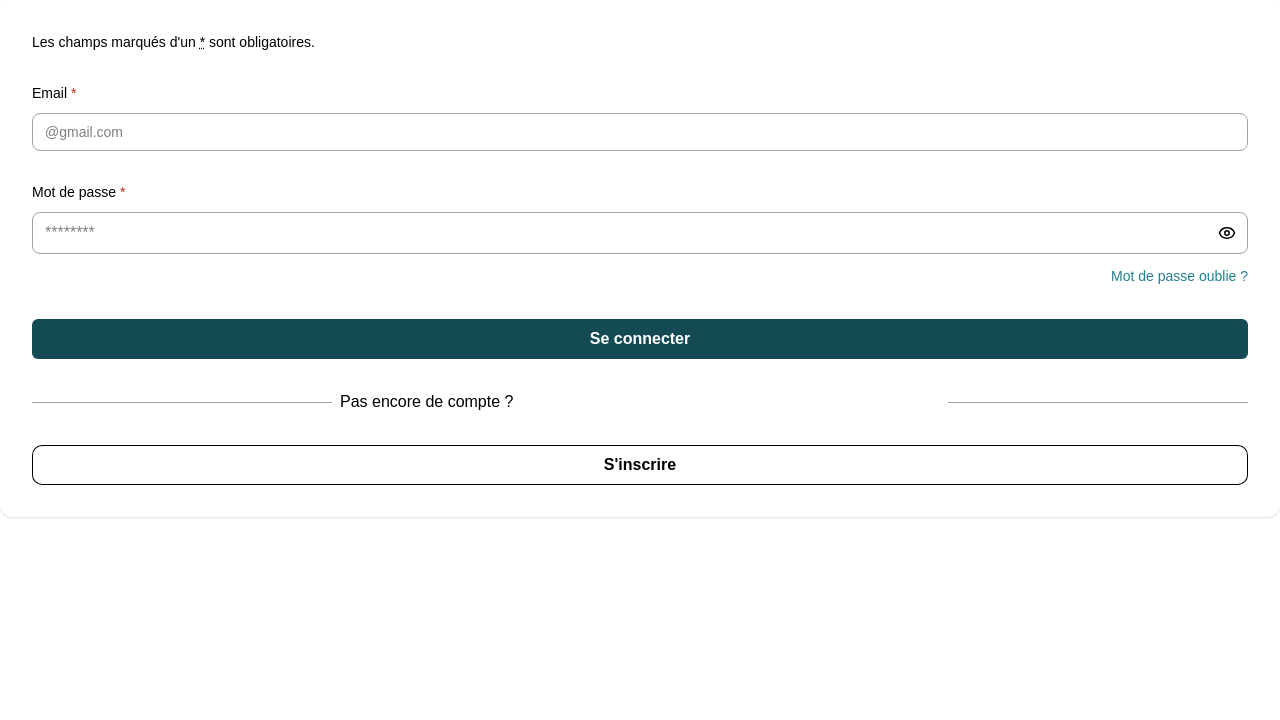
Test case: LoginForm › affiche les erreurs serveur globales (500)
Type "test@example.com" into the field with placeholder "@gmail.com" at (640,132), box [32,113,1248,151]
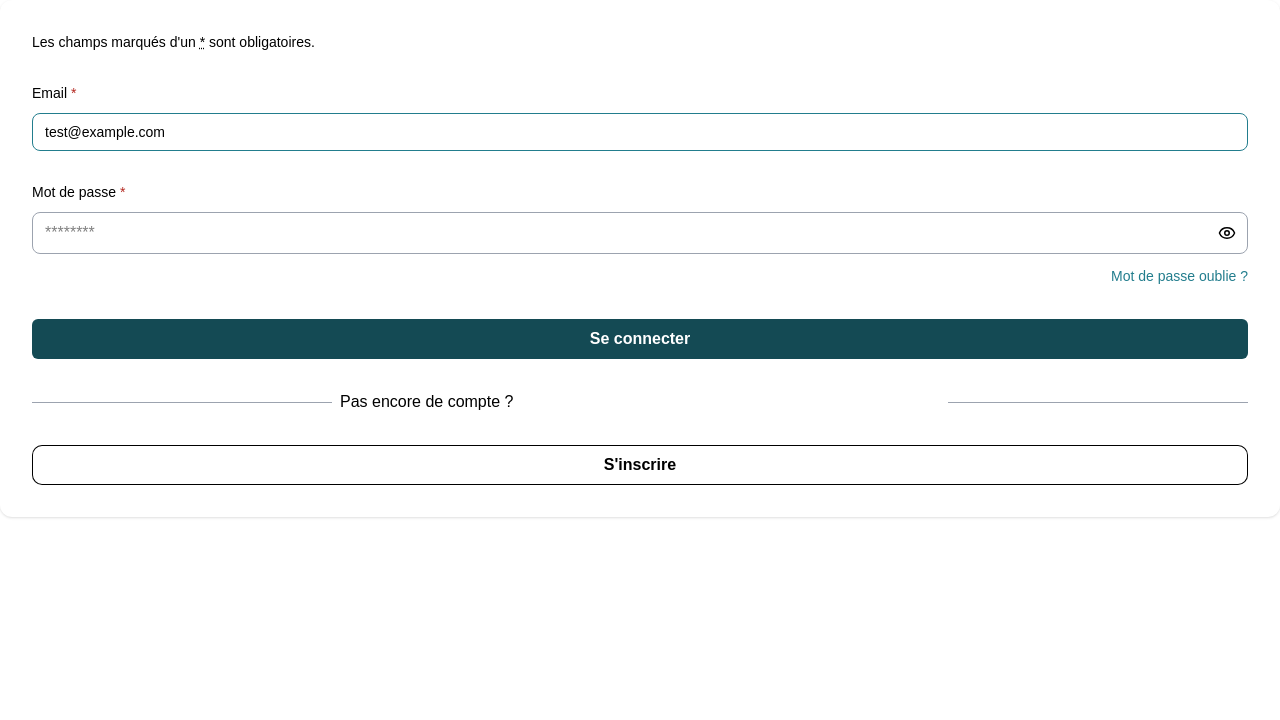
Type "password123" into the password field with placeholder "********" at (640,233), box [32,212,1248,254]
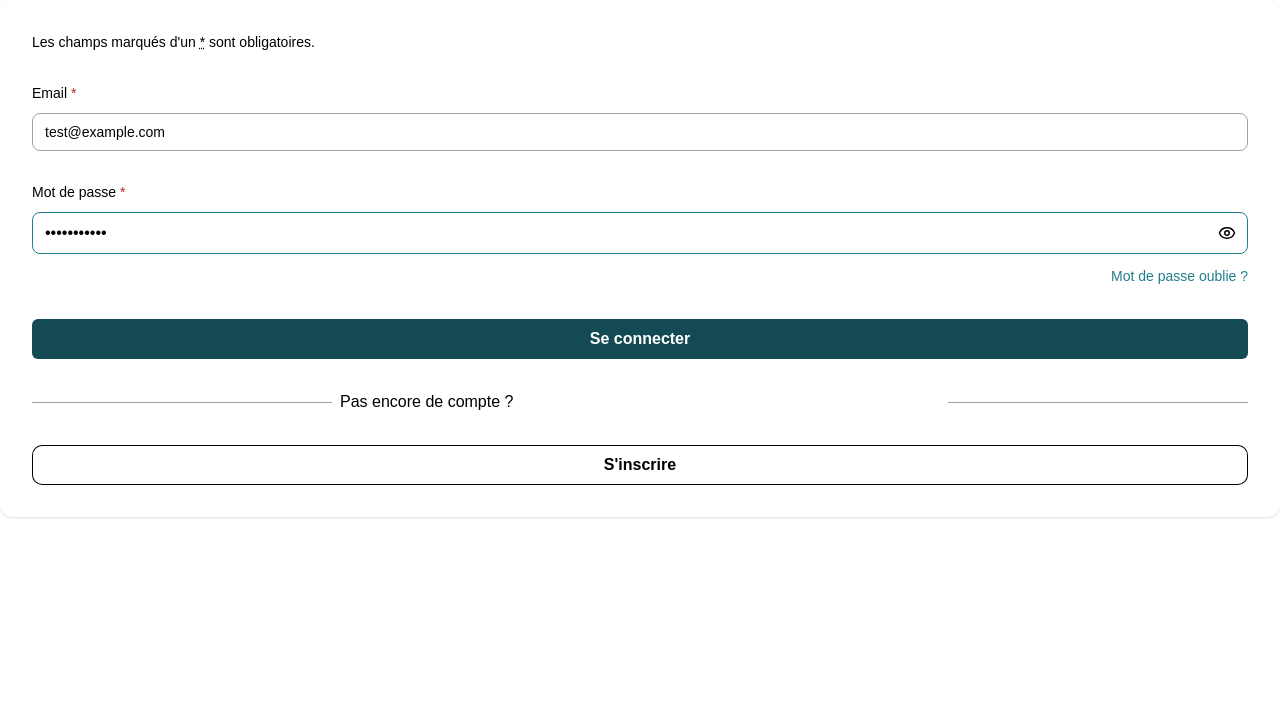
Click the button "Se connecter" at (640,339), box [32,319,1248,359]
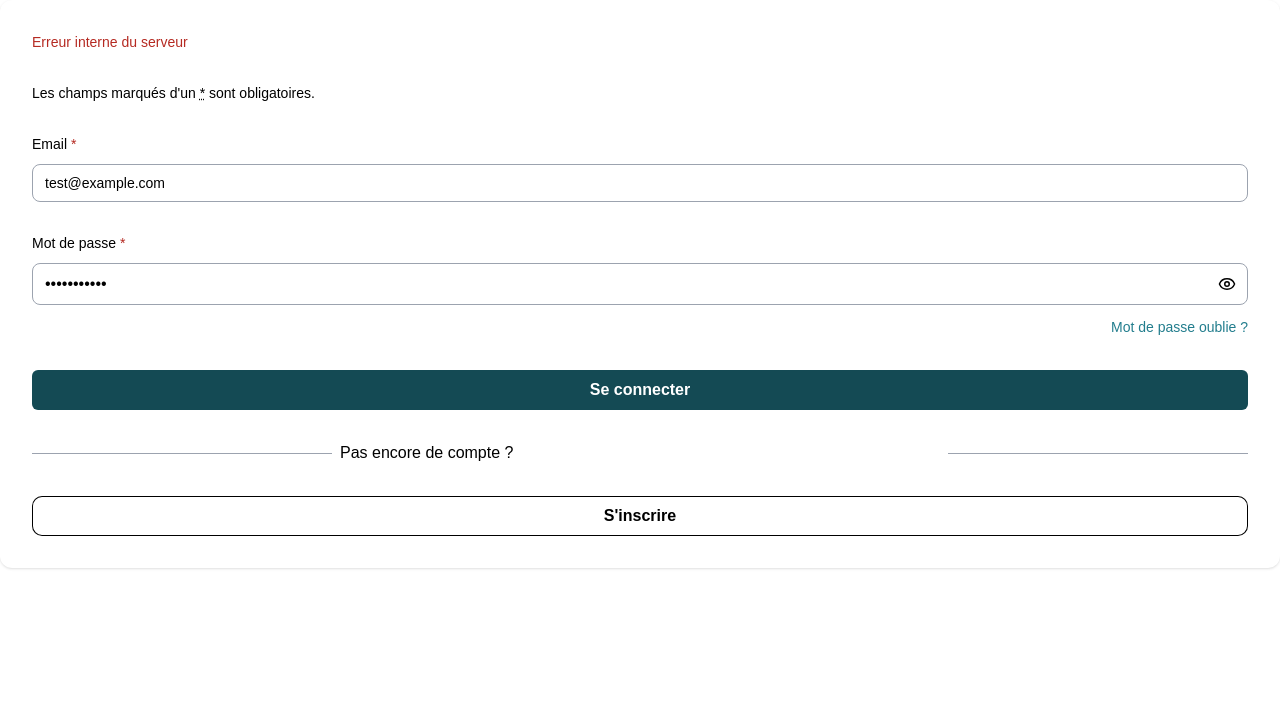
Now the text "Erreur interne du serveur" is shown, box [32,34,188,50]
